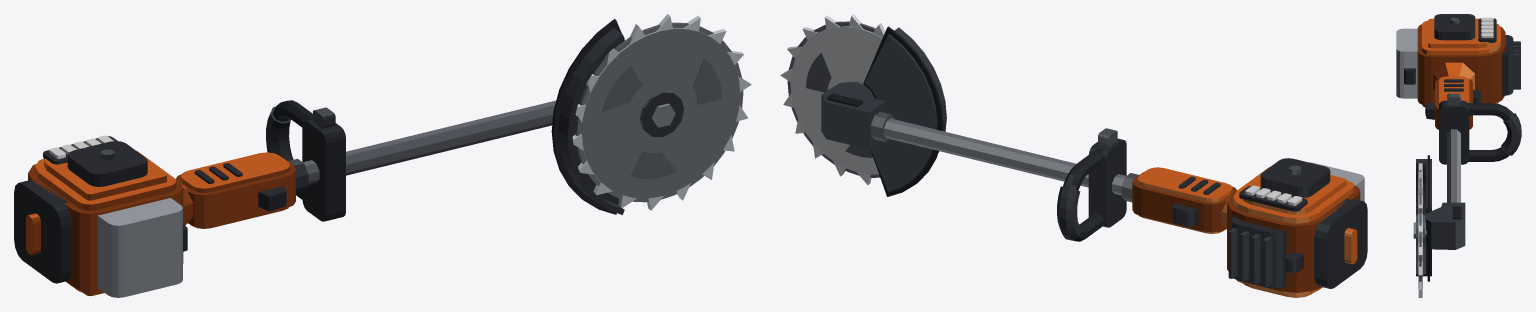
File: WeedWhacker.fbx
The picture shows the model from 3 angles, left to right: view 1: azimuth 30°, elevation 25°; view 2: azimuth 150°, elevation 25°; view 3: azimuth 270°, elevation 25°; orthographic projection. The views are drawn at different scales.
Parts seen in each view (by area): view 1: WhackerBlade, WhackerEngine, WhackerGrip, WhackerShaft, WhackerLoop, WhackerGuard, WhackerHeat; view 2: WhackerEngine, WhackerGuard, WhackerBlade, WhackerShaft, WhackerGrip, WhackerLoop, WhackerHeat; view 3: WhackerEngine, WhackerLoop, WhackerGuard, WhackerGrip, WhackerShaft, WhackerBlade, WhackerHeat.
Boxes of the visible parts, x1=… form: WhackerBlade: x1=572, y1=14, x2=751, y2=210; WhackerEngine: x1=14, y1=141, x2=193, y2=297; WhackerGrip: x1=175, y1=152, x2=295, y2=228; WhackerShaft: x1=288, y1=100, x2=556, y2=192; WhackerLoop: x1=266, y1=100, x2=345, y2=221; WhackerGuard: x1=551, y1=19, x2=624, y2=214; WhackerHeat: x1=43, y1=135, x2=117, y2=164; WhackerEngine: x1=1221, y1=158, x2=1367, y2=297; WhackerGuard: x1=821, y1=26, x2=946, y2=196; WhackerBlade: x1=780, y1=14, x2=885, y2=184; WhackerShaft: x1=870, y1=111, x2=1138, y2=202; WhackerGrip: x1=1132, y1=167, x2=1236, y2=233; WhackerLoop: x1=1057, y1=128, x2=1126, y2=241; WhackerHeat: x1=1239, y1=185, x2=1307, y2=211; WhackerEngine: x1=1396, y1=14, x2=1520, y2=106; WhackerLoop: x1=1439, y1=93, x2=1521, y2=164; WhackerGuard: x1=1416, y1=155, x2=1465, y2=281; WhackerGrip: x1=1425, y1=76, x2=1481, y2=129; WhackerShaft: x1=1447, y1=129, x2=1460, y2=202; WhackerBlade: x1=1413, y1=163, x2=1426, y2=297; WhackerHeat: x1=1478, y1=17, x2=1496, y2=42.
Size of the model in its own units: 680 by 184 by 165.
